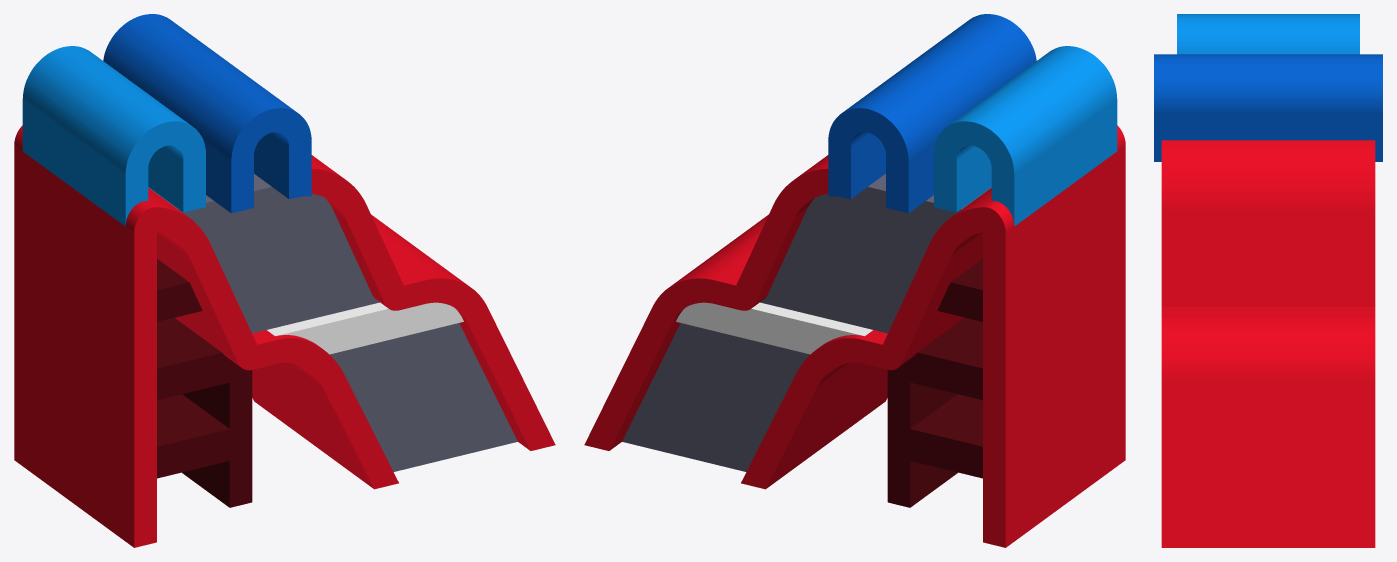
3 renders of one model, left to right at view 1: azimuth 30°, elevation 25°; view 2: azimuth 150°, elevation 25°; view 3: azimuth 270°, elevation 25°, orthographic. The views are drawn at different scales.
Visible parts, largest first — view 1: U+1F6DD_layer04_obj00, U+1F6DD_layer01_obj00, U+1F6DD_layer02_obj00, U+1F6DD_layer05_obj00, U+1F6DD_layer00_obj00, U+1F6DD_layer03_obj00; view 2: U+1F6DD_layer04_obj00, U+1F6DD_layer01_obj00, U+1F6DD_layer02_obj00, U+1F6DD_layer05_obj00, U+1F6DD_layer00_obj00, U+1F6DD_layer03_obj00; view 3: U+1F6DD_layer04_obj00, U+1F6DD_layer05_obj00, U+1F6DD_layer02_obj00.
Part boxes in pixels (<box>): U+1F6DD_layer04_obj00: <box>14,125,555,547</box>; U+1F6DD_layer01_obj00: <box>148,174,517,471</box>; U+1F6DD_layer02_obj00: <box>22,46,205,226</box>; U+1F6DD_layer05_obj00: <box>103,14,311,213</box>; U+1F6DD_layer00_obj00: <box>157,259,252,507</box>; U+1F6DD_layer03_obj00: <box>267,302,463,354</box>; U+1F6DD_layer04_obj00: <box>584,125,1125,547</box>; U+1F6DD_layer01_obj00: <box>622,174,991,471</box>; U+1F6DD_layer02_obj00: <box>934,46,1117,226</box>; U+1F6DD_layer05_obj00: <box>828,14,1036,213</box>; U+1F6DD_layer00_obj00: <box>887,259,982,507</box>; U+1F6DD_layer03_obj00: <box>676,302,872,354</box>; U+1F6DD_layer04_obj00: <box>1161,140,1375,547</box>; U+1F6DD_layer05_obj00: <box>1154,54,1382,161</box>; U+1F6DD_layer02_obj00: <box>1177,14,1359,54</box>.
Size of the model in its own units: 0.5678 by 0.5271 by 0.3.
